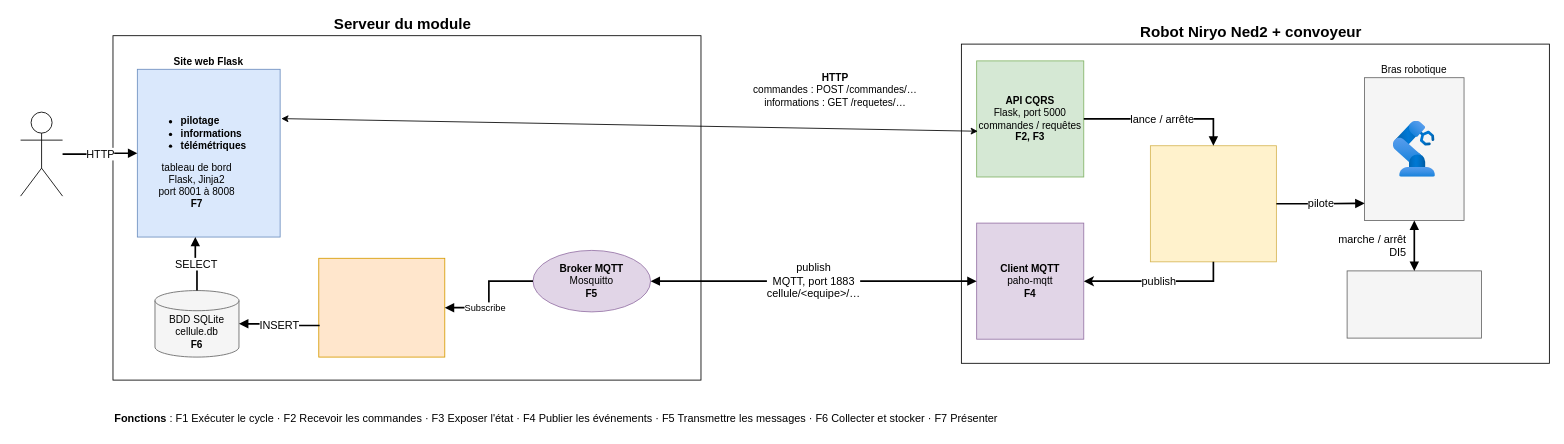
This 1564x444 diagram has some shape labels left out. The centre of each missing label's shape, as x and y in pixels:
Convoyeur capteur de présence DI5: the point at 1414,304
Gestionnaire télémétrie collecteur Python paho-mqtt, sqlite3 F6: the point at 381,307
Opérateur (navigateur): the point at 41,153
Programme process cycle pick & place pyniryo F1: the point at 1213,203
